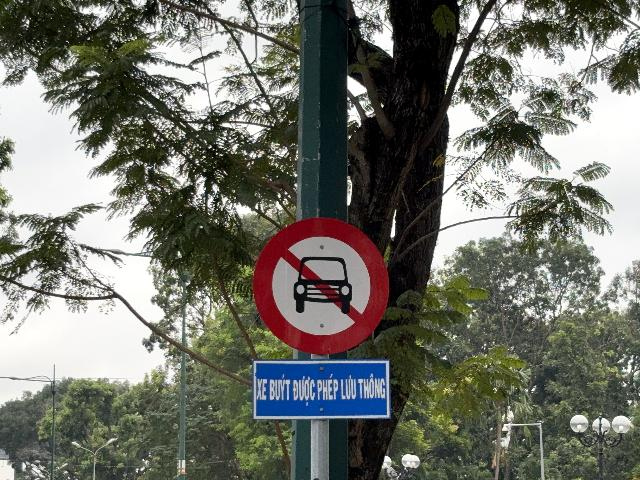cam-o-to: (252, 218, 388, 355)
